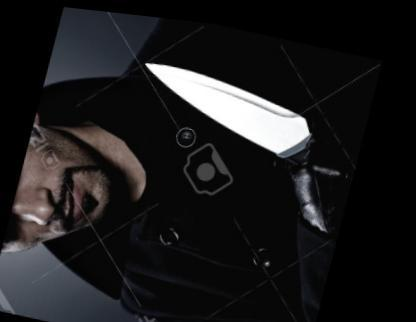knife: (120, 48, 336, 162)
